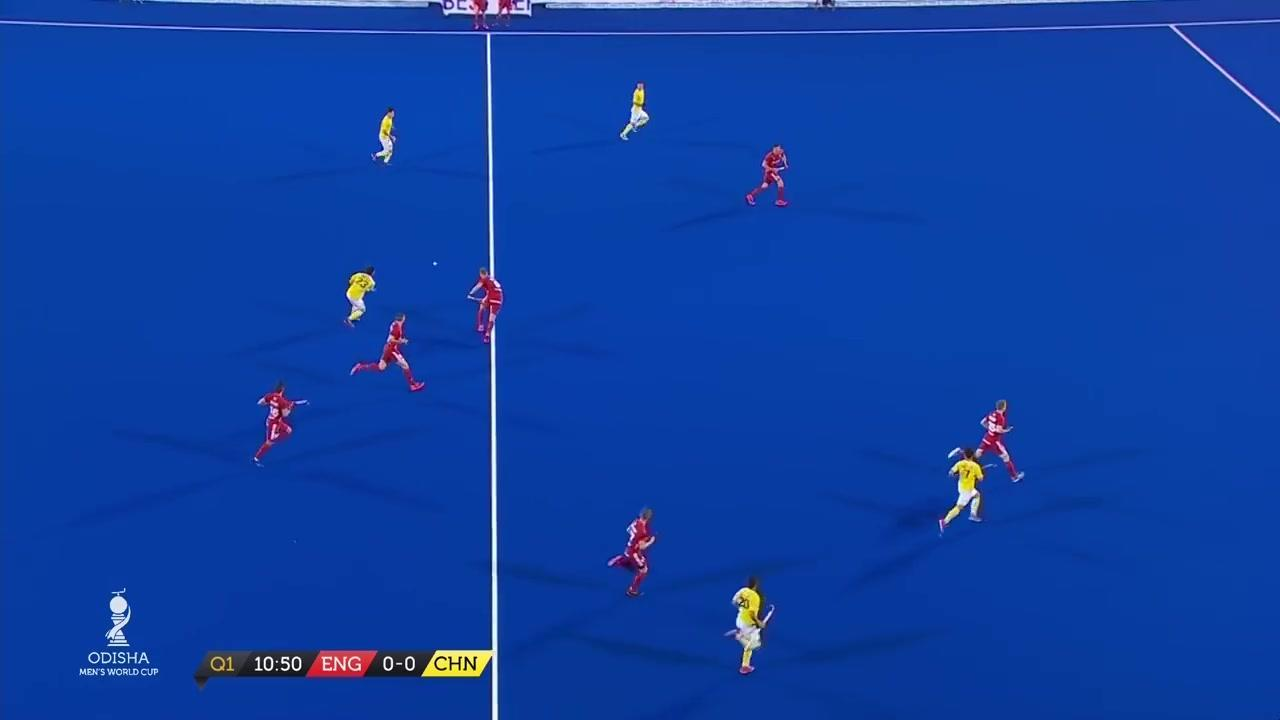ball: (431, 261, 440, 268)
